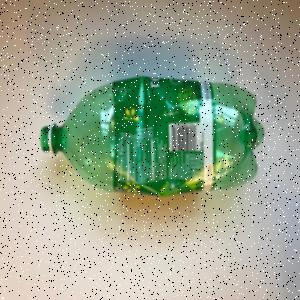Plastic-bottle: (39, 76, 266, 198)
